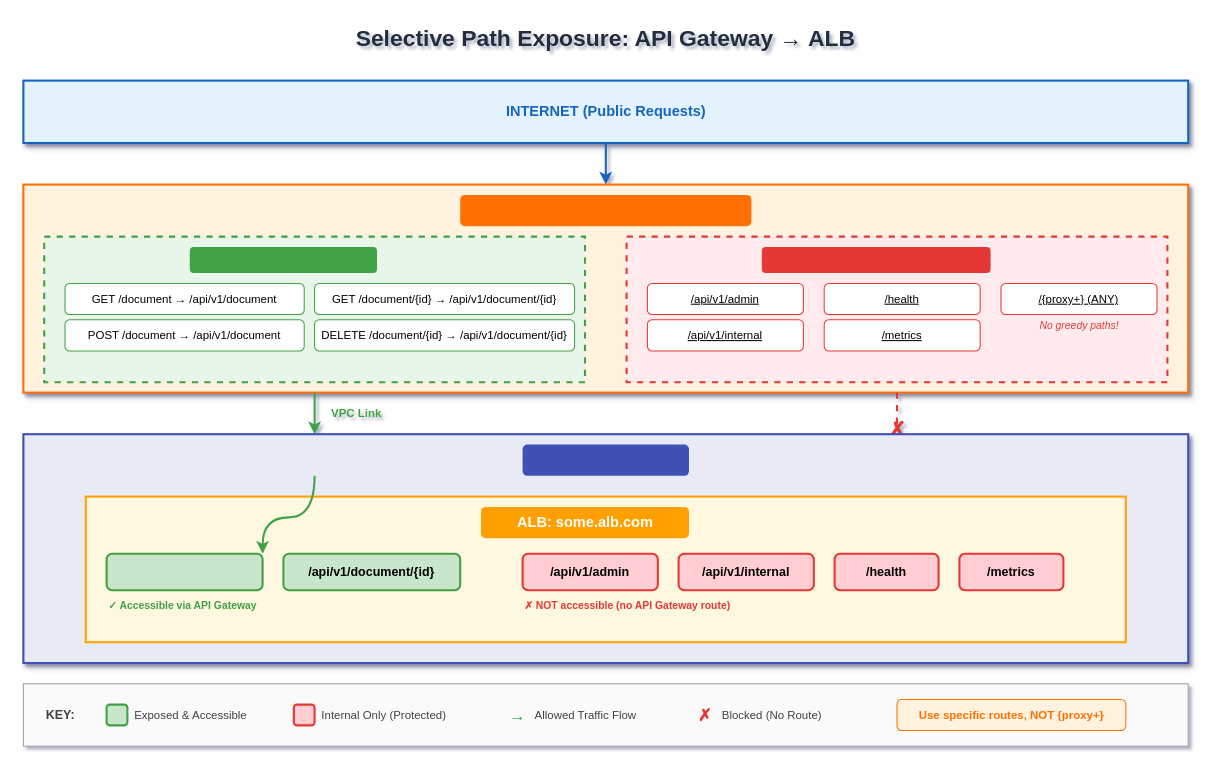
The diagram is 1219 pixels wide and 771 high, and some of its shapes have lost their labels. The centre of each missing label's shape, as x and y in pixels:
/api/v1/document: point 184,571
API GATEWAY (HTTP API): point 605,210
VPC (Private): point 605,459
✓ EXPOSED ROUTES: point 282,259
✗ NOT EXPOSED (404 Response): point 875,259
